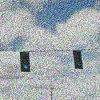traffic lights: (18, 51, 30, 73), (73, 50, 83, 70)
